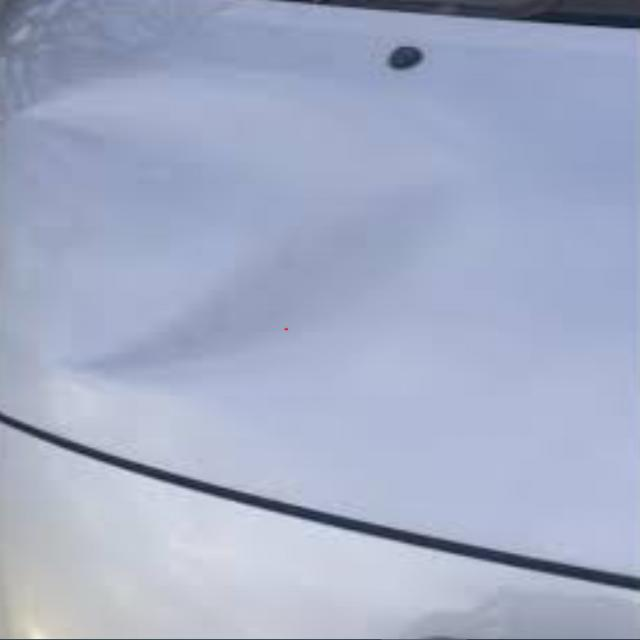dents: (26, 76, 500, 378)
